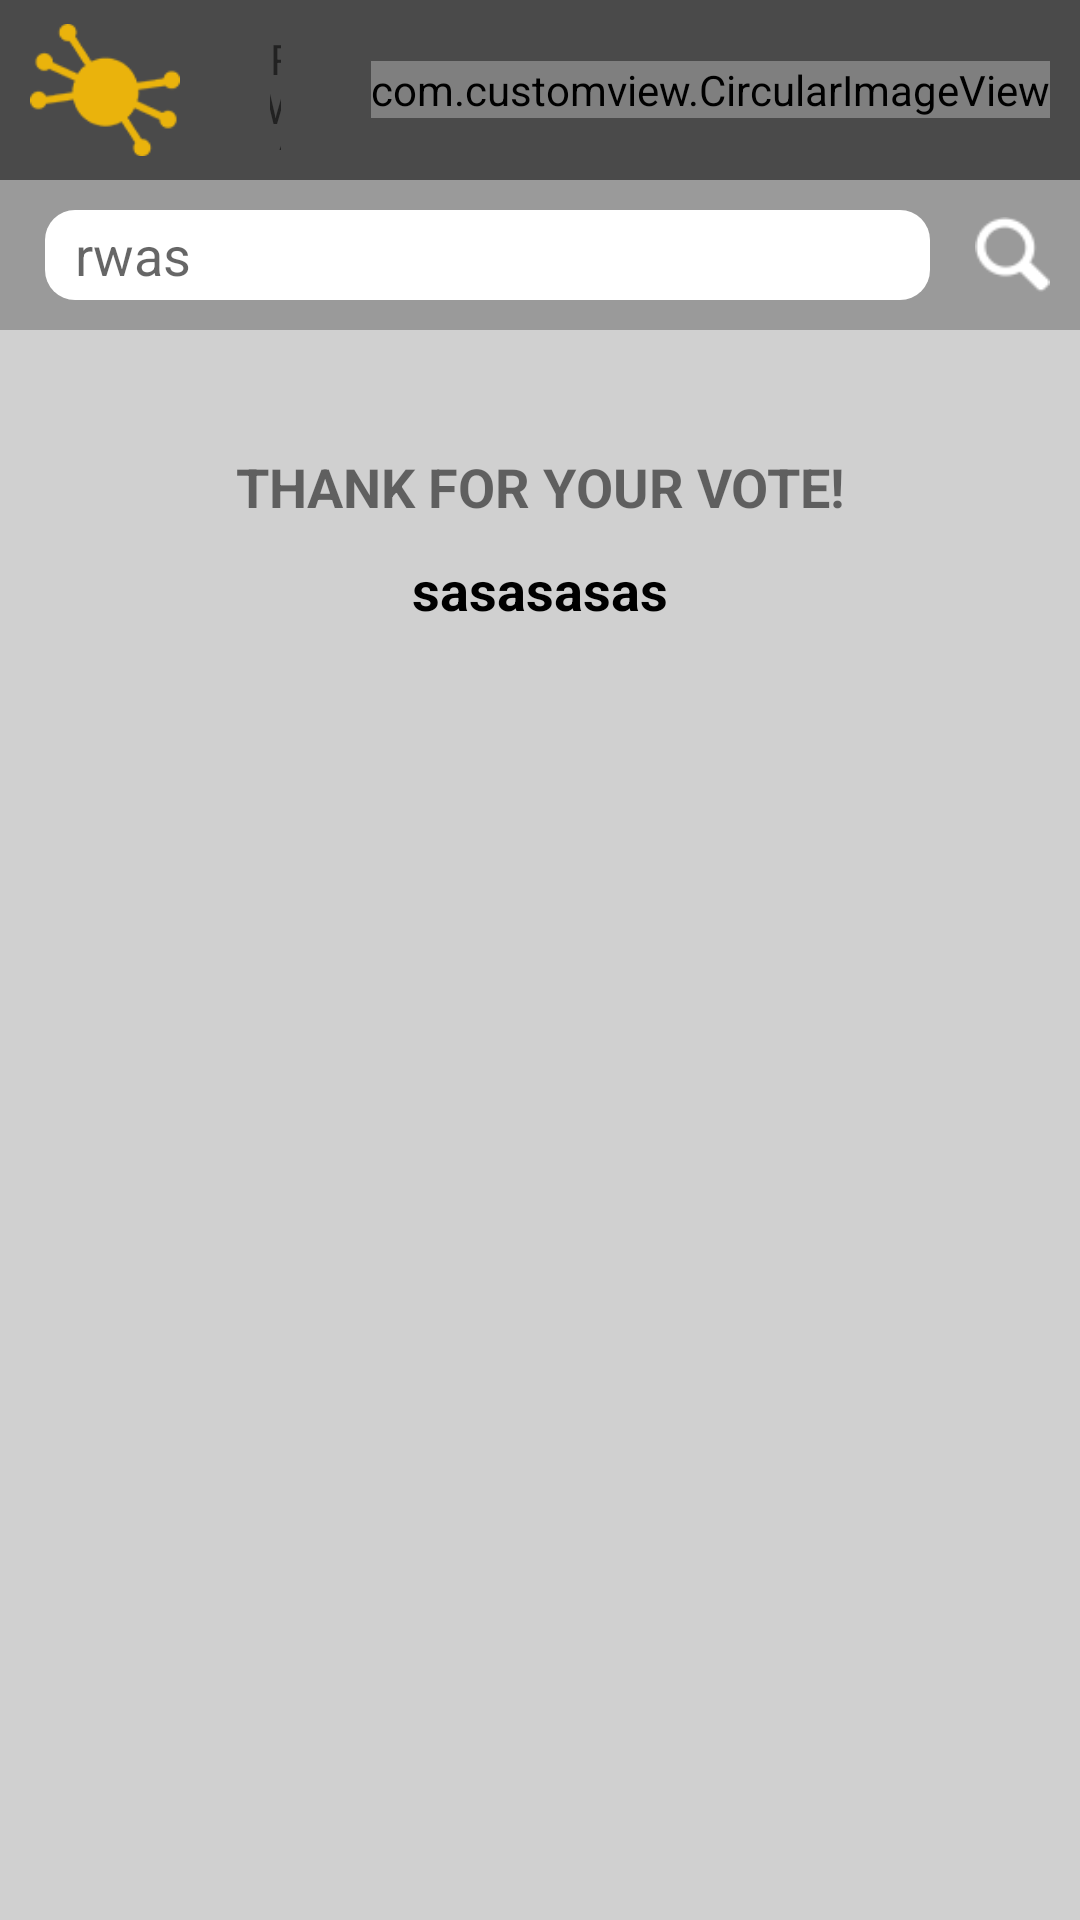

Icons on this 1080w x 1920h Android screen, each with its box as bbox=[x1, y1, x2, y2]:
search: bbox=[975, 217, 1050, 291]
